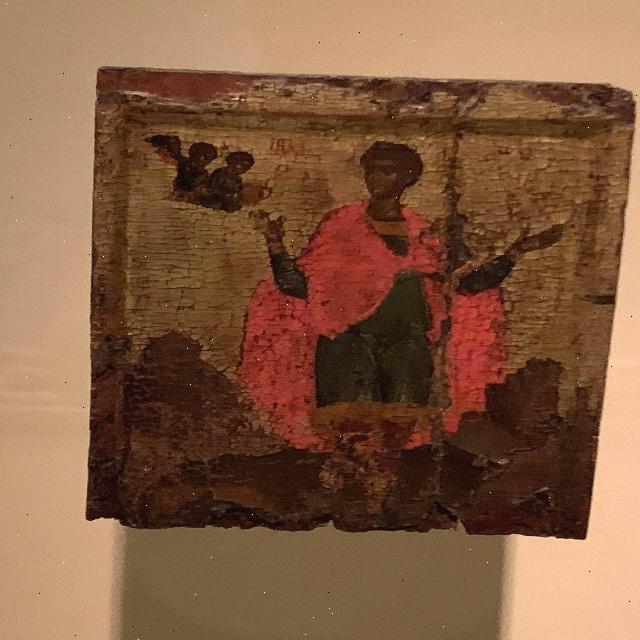angel: (137, 130, 284, 215)
saint: (257, 133, 559, 457)
